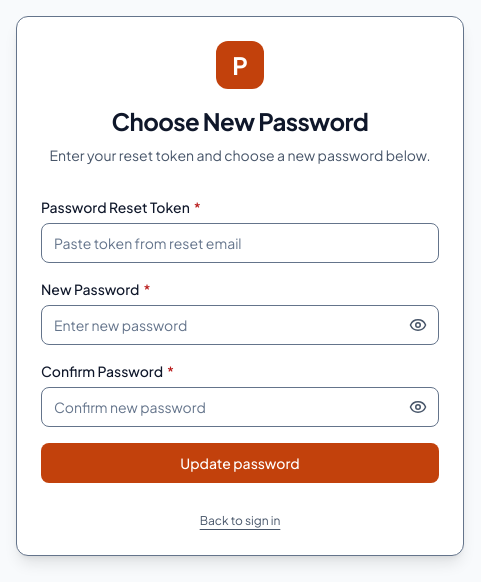
ResetPasswordPage Component Flow › allows entering reset token manually when URL does not contain token parameter
The image size is (481, 582).
Type "manual-token-999" into the field with placeholder "Paste token from reset email". click: [240, 243]
box: [41,223,439,263]
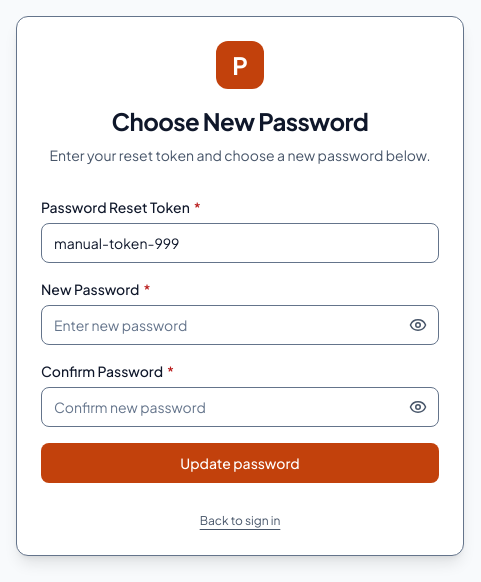
Type "ManualSecret123!" into the password field with placeholder "Enter new password". click: [240, 325]
box: [41,305,439,345]
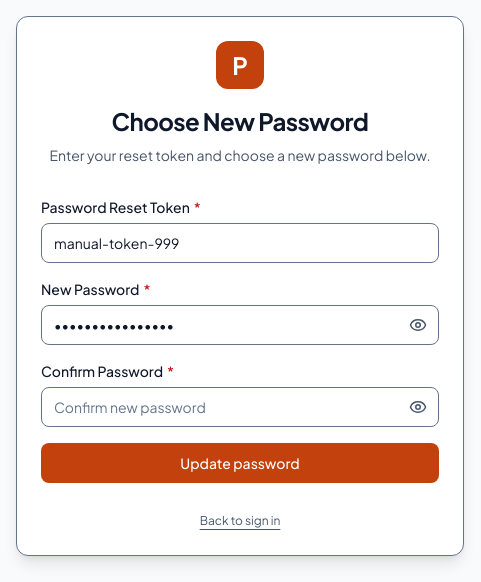
Type "ManualSecret123!" into the password field with placeholder "Confirm new password". click: [240, 407]
box: [41,387,439,427]
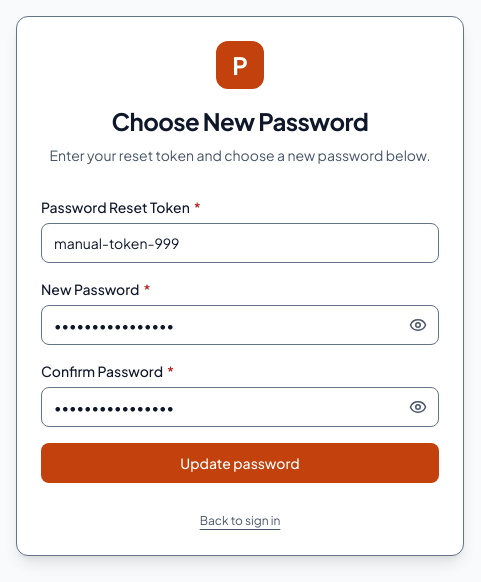
Click the button "Update password". click: [240, 463]
box: [41,443,439,483]
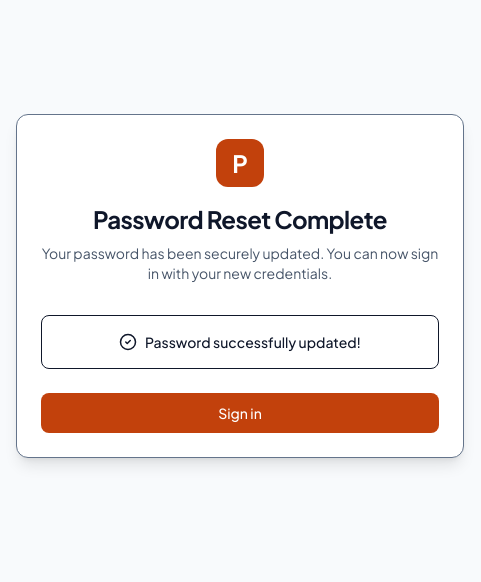
Now the text "Password successfully updated!" is shown, box [145,332,361,352]
